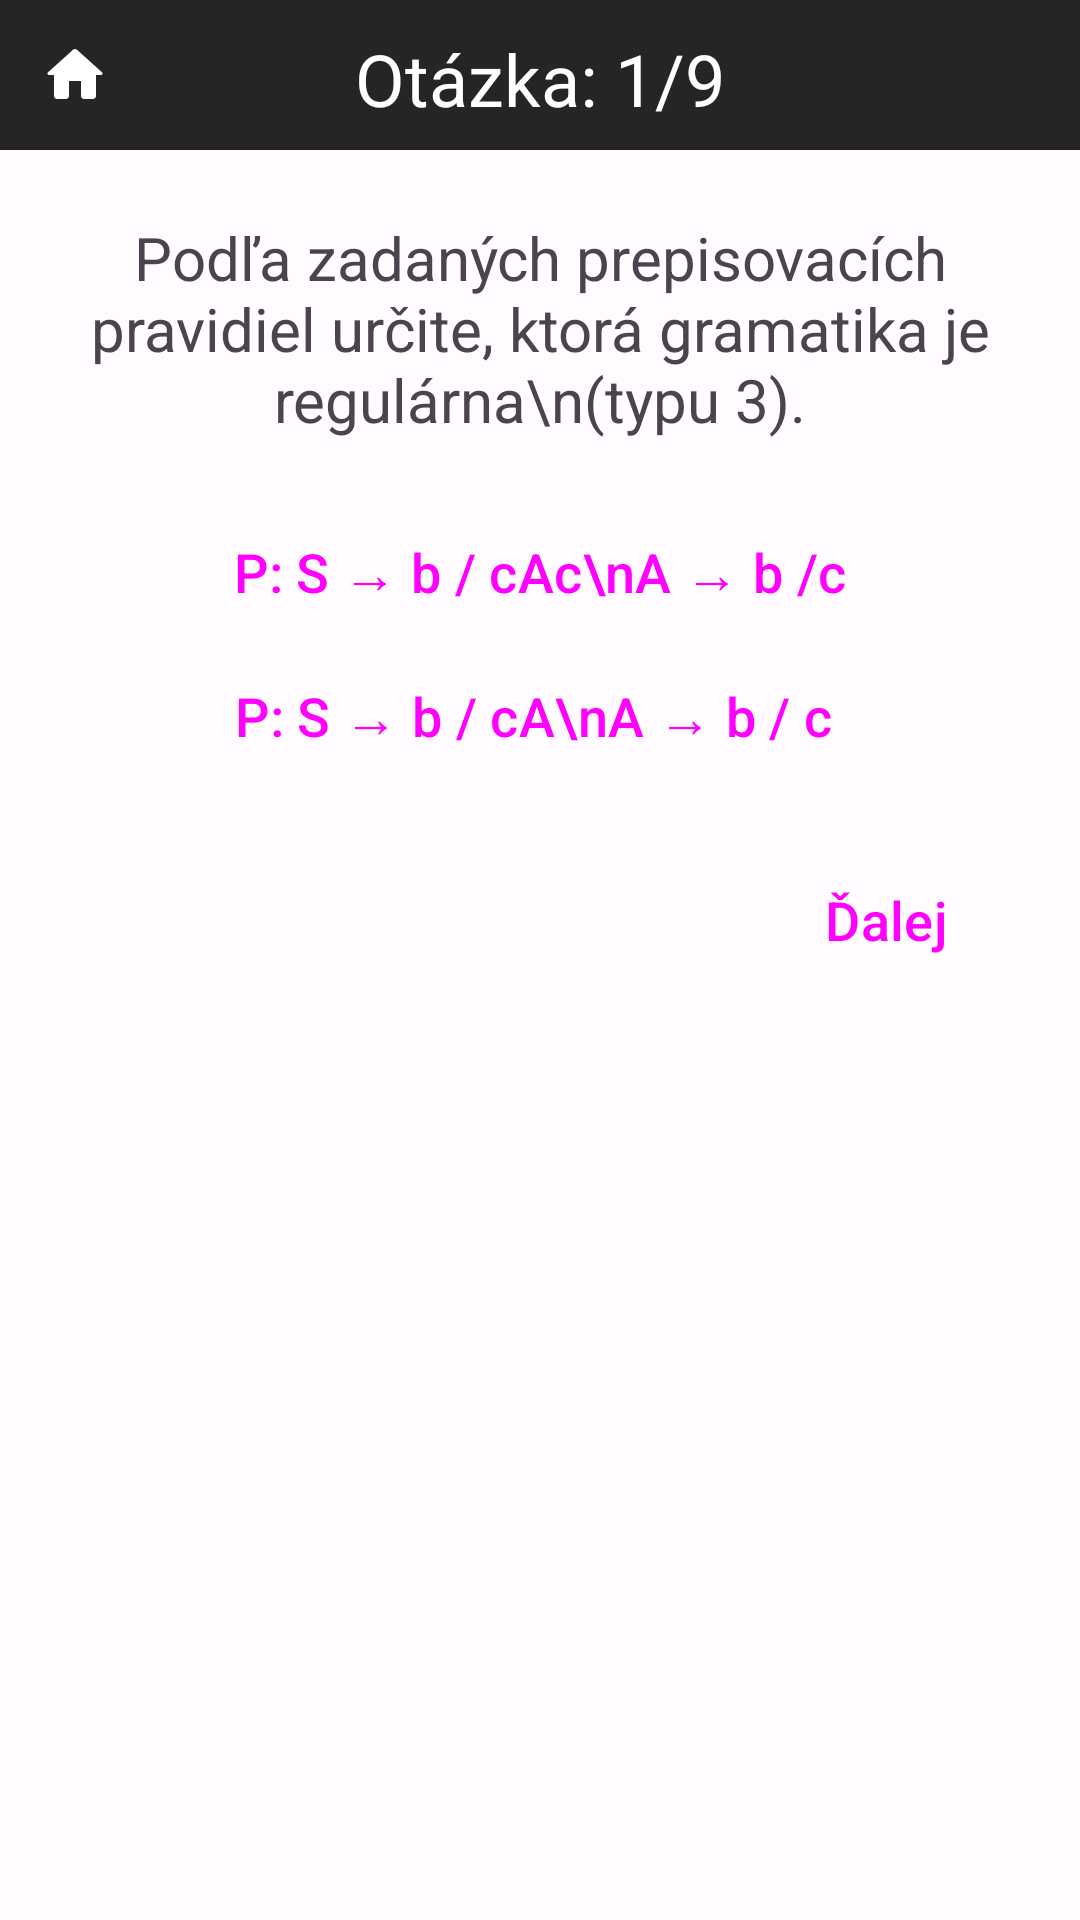

Named icons in this screenshot (1080 x 1920) and their centers, [x,y]:
domov: [75,74]
